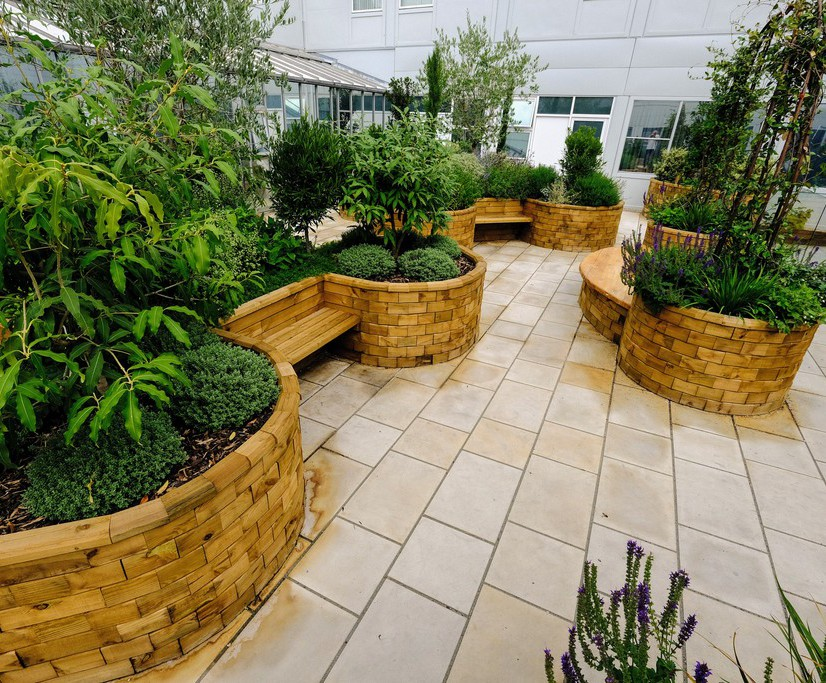plants: (1, 2, 214, 461), (357, 128, 476, 281), (634, 230, 826, 302), (272, 128, 351, 269)
